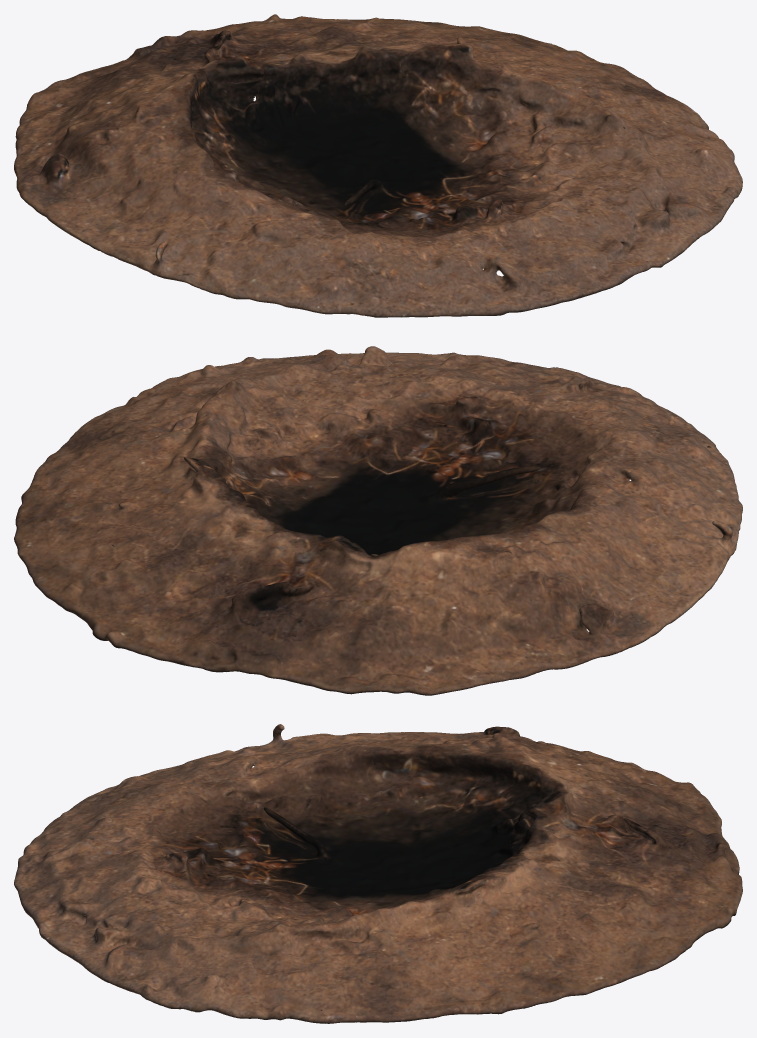
The model's file is ant_dirt_hole__0215015813_texture.fbx.
3 views of the same model, one above another, from view 1: azimuth 30°, elevation 25°; view 2: azimuth 150°, elevation 25°; view 3: azimuth 270°, elevation 25° (orthographic). The views are drawn at different scales.
Parts seen in each view (by area): view 1: Mesh1_Mesh1.046; view 2: Mesh1_Mesh1.046; view 3: Mesh1_Mesh1.046.
Part boxes in pixels (<box>): Mesh1_Mesh1.046: <box>14,14,742,317</box>; Mesh1_Mesh1.046: <box>14,346,742,695</box>; Mesh1_Mesh1.046: <box>14,724,742,1023</box>.
Size of the model in its own units: 187 by 19.46 by 200.
1 material, 1 textured.
